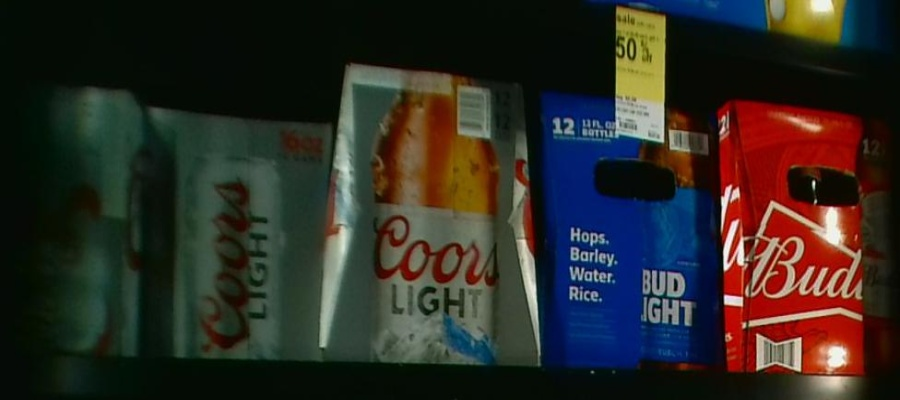bottle: (333, 63, 538, 366), (541, 90, 724, 372), (722, 94, 896, 378), (146, 105, 328, 357), (10, 83, 144, 358)
